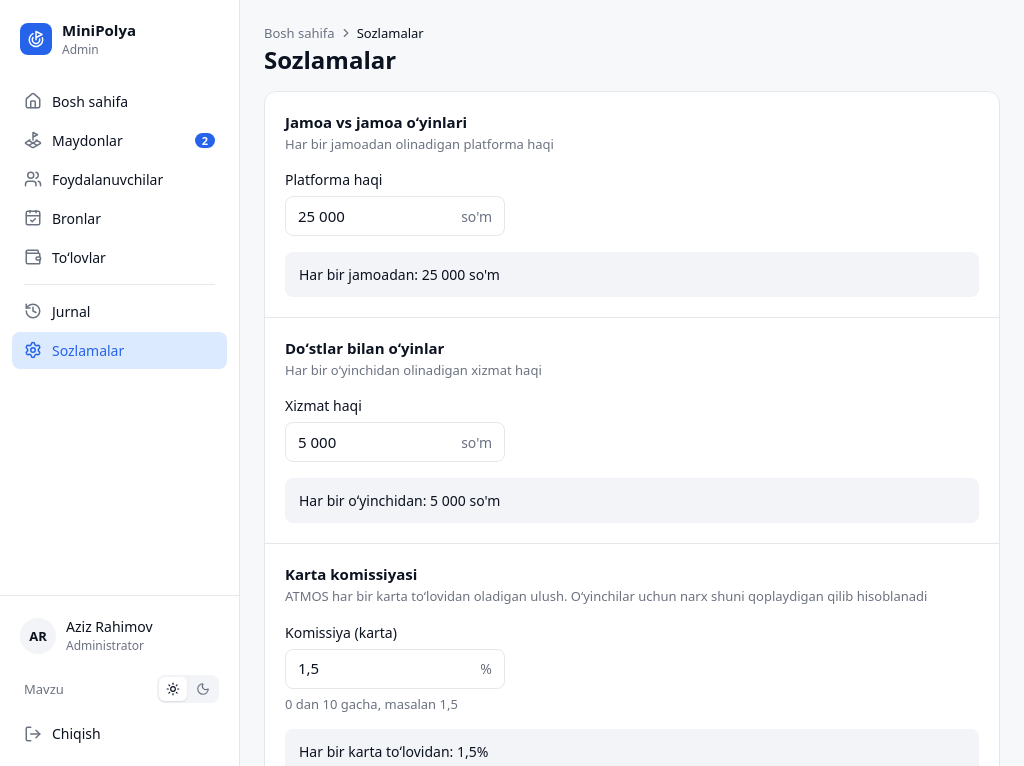
Scenario: Sozlamalar › shows the backend validation error on its field
Replace the text in the field labelled "Xizmat haqi" with "6 000" at (376, 442), box [298, 432, 453, 453]
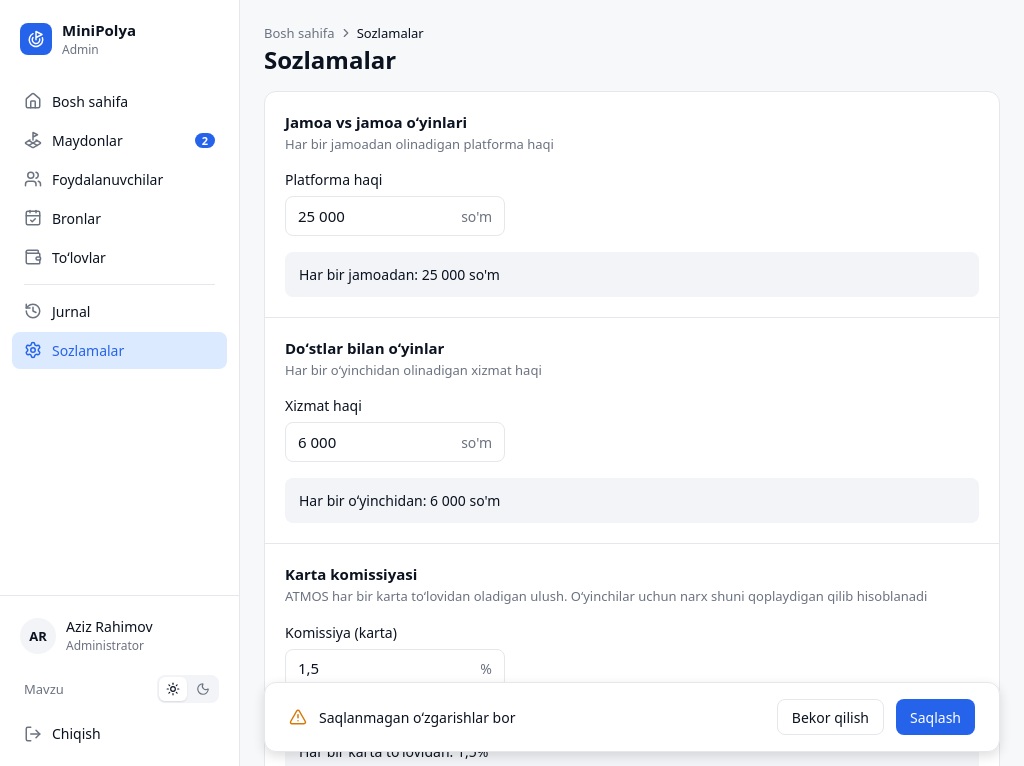
Click the button "Saqlash" at (936, 717), box [896, 699, 975, 735]
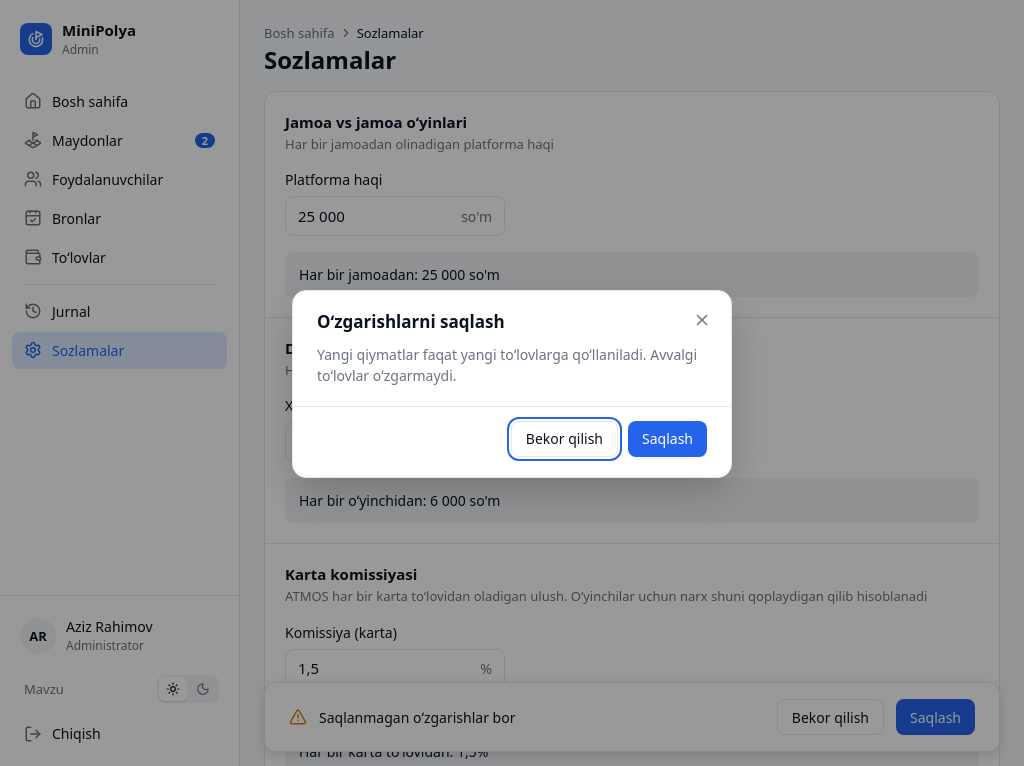
Click the button "Saqlash" at (668, 438), box [628, 420, 707, 456]
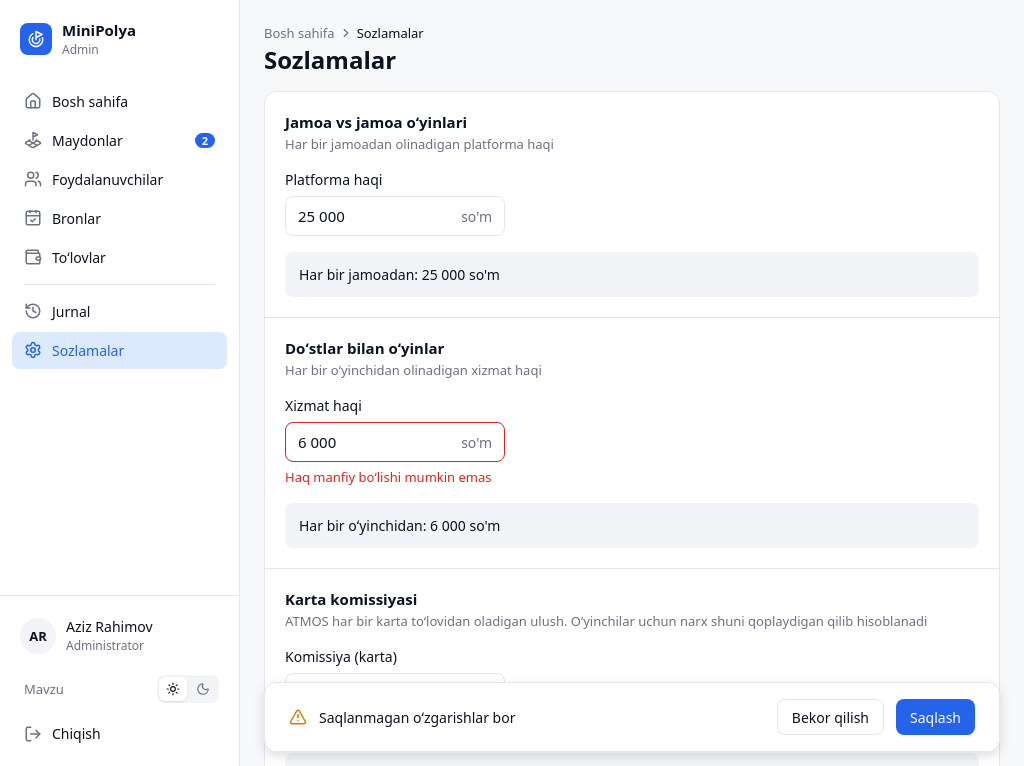
Expected: the text "Saqlanmagan oʻzgarishlar bor" is shown, [319, 708, 515, 726]
Expected: the text "Haq manfiy boʻlishi mumkin emas" is shown, [285, 468, 492, 486]
